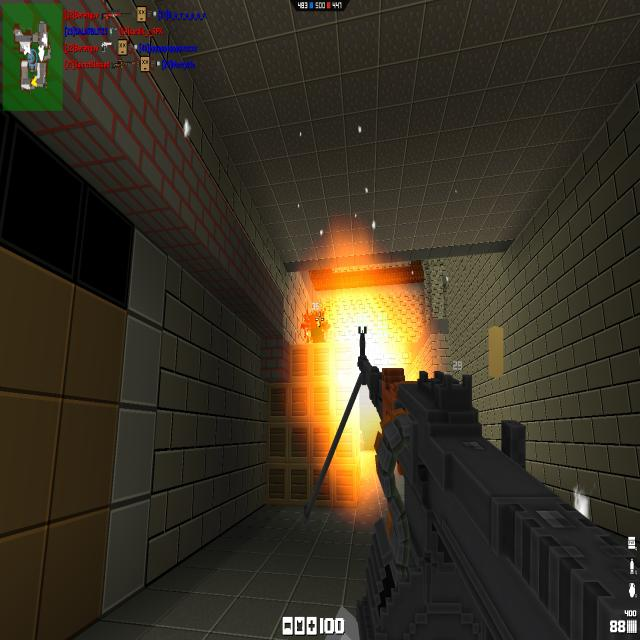player: (302, 302, 326, 344)
